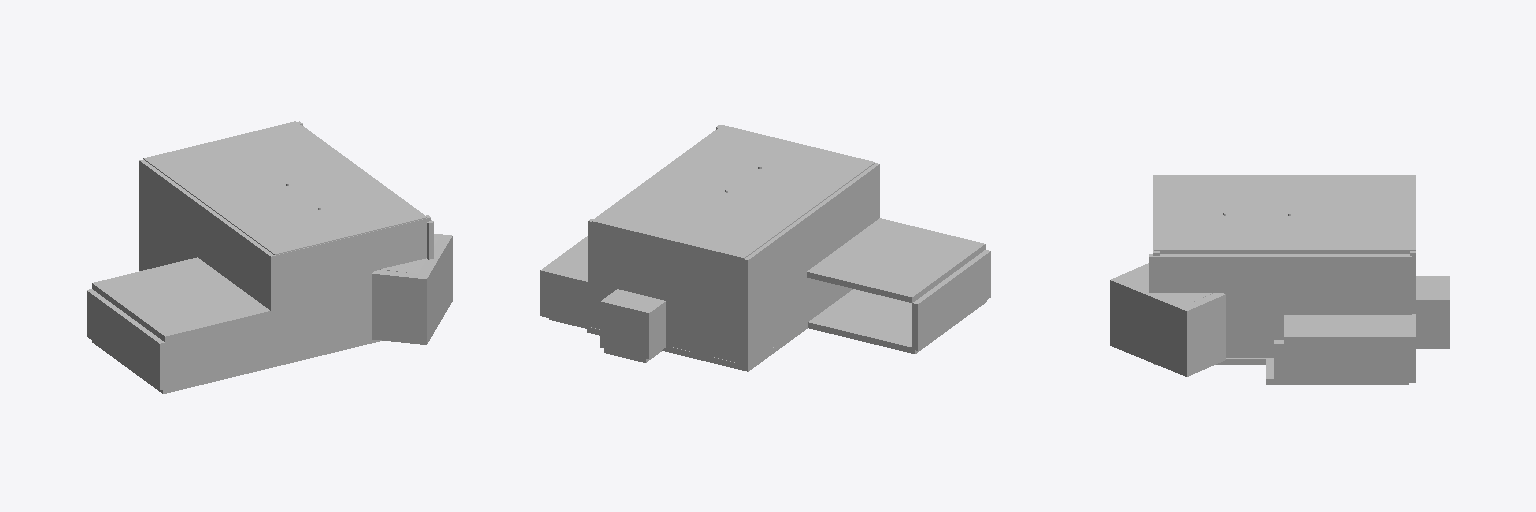
Rendered from ImprovedLakota.obj.
The picture shows the model from 3 angles: view 1: azimuth 30°, elevation 25°; view 2: azimuth 150°, elevation 25°; view 3: azimuth 270°, elevation 25°; orthographic projection.
Parts seen in each view (by area): view 1: pCube10, pCube42, pCube14, pCube29, pCube17, pCube39; view 2: pCube10, pCube35, pCube42, pCube29, pCube39, pCube41, pCube40, pCube36; view 3: pCube10, pCube43, pCube40, pCube17, pCube41.
Part boxes in pixels (bbox=[...]): pCube10: bbox=[143, 121, 426, 254]; pCube42: bbox=[87, 257, 270, 389]; pCube14: bbox=[268, 215, 430, 363]; pCube29: bbox=[139, 159, 270, 307]; pCube17: bbox=[372, 234, 452, 344]; pCube39: bbox=[92, 341, 269, 393]; pCube10: bbox=[592, 125, 874, 263]; pCube35: bbox=[588, 219, 750, 363]; pCube42: bbox=[807, 218, 990, 350]; pCube29: bbox=[743, 165, 876, 365]; pCube39: bbox=[808, 289, 986, 353]; pCube41: bbox=[600, 289, 665, 358]; pCube40: bbox=[540, 236, 587, 326]; pCube36: bbox=[587, 323, 807, 371]; pCube10: bbox=[1154, 176, 1415, 253]; pCube43: bbox=[1149, 254, 1411, 357]; pCube40: bbox=[1274, 314, 1415, 382]; pCube17: bbox=[1110, 263, 1225, 376]; pCube41: bbox=[1416, 276, 1449, 345].
Bounding box in the file's own units: 55.22 × 20 × 50.94.